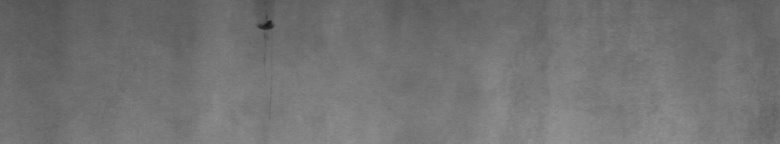fi: (252, 12, 280, 39)
